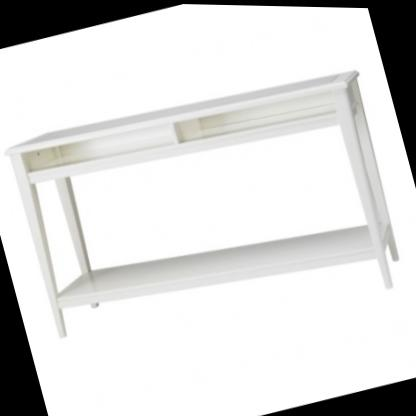Table: (0, 44, 416, 379)
